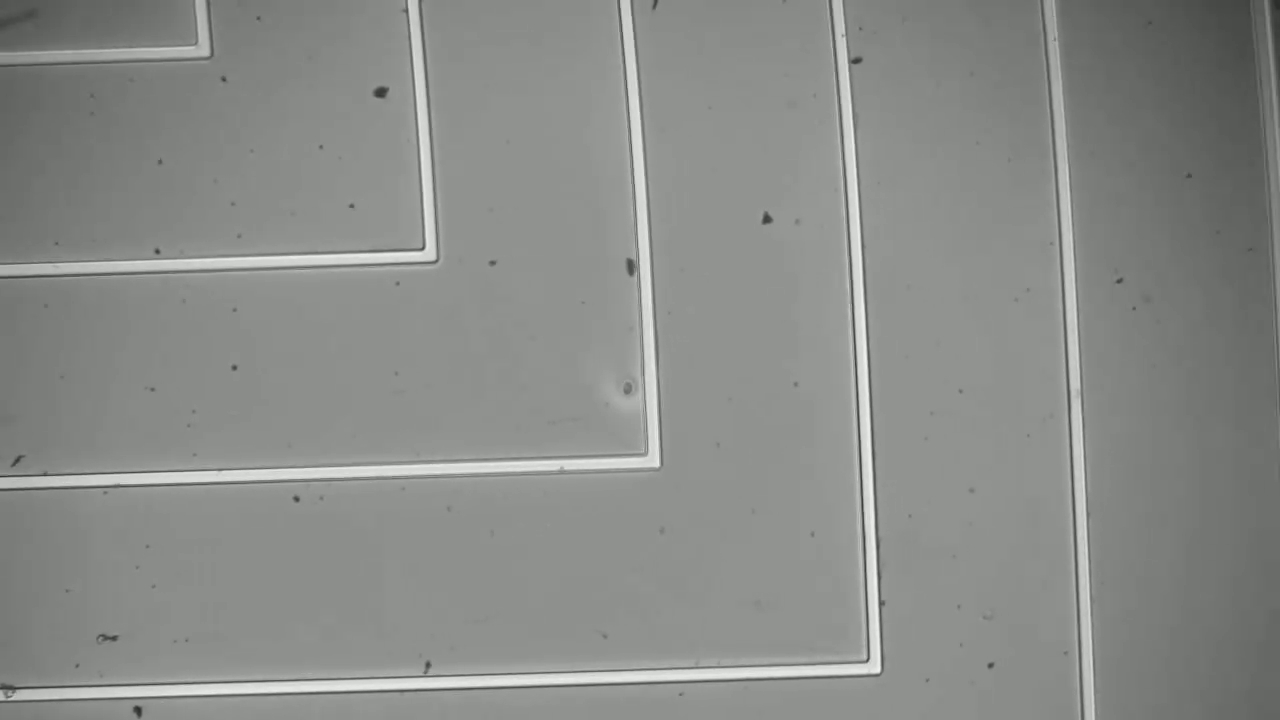stains_enbedded: (1, 679, 32, 706)
